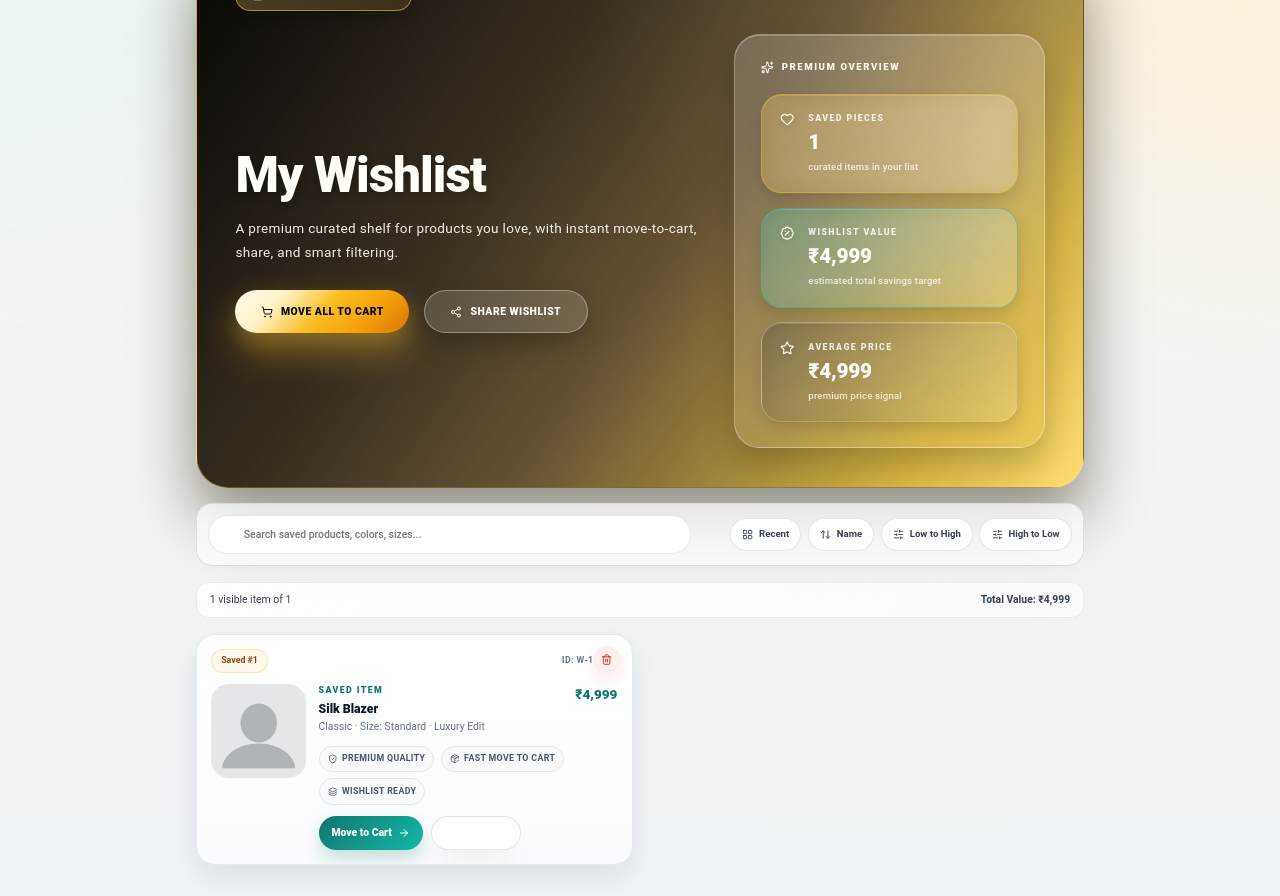
Test case: when only the wishlist delete fails, Retry does not add to the cart twice
(page scrolled)
Expected: the heading "Silk Blazer" is shown, [319,702,383,716]
Click the button "Move to Cart": (371,833) [319,816,423,850]
(page scrolled)
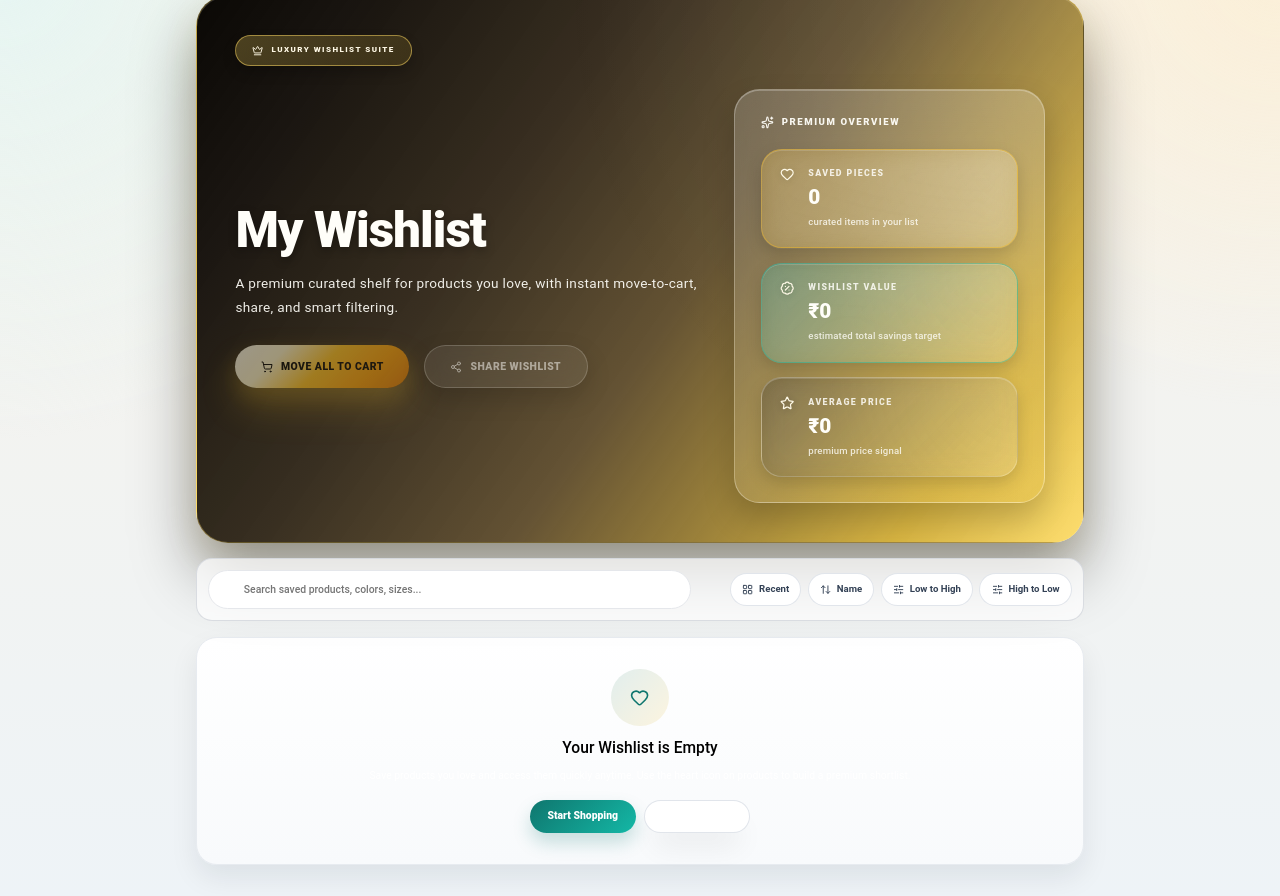
Expected: the heading "Silk Blazer" is gone
